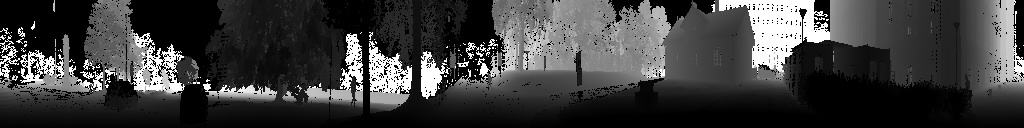car: (179, 83, 209, 126), (104, 79, 139, 111), (756, 65, 776, 80)
person: (963, 73, 974, 115), (349, 77, 357, 109), (486, 72, 492, 91), (72, 83, 76, 91)
